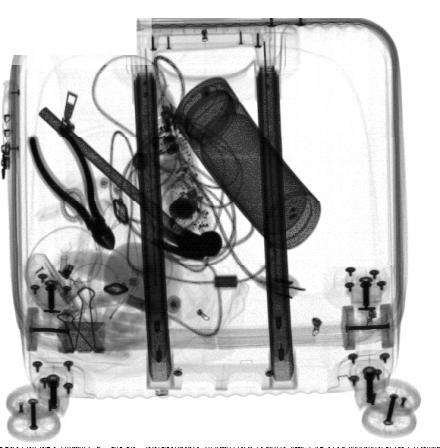Hammer: (38, 108, 223, 261)
Pliers: (26, 121, 115, 250)
